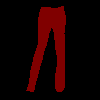pantaloni: (26, 6, 66, 92)
